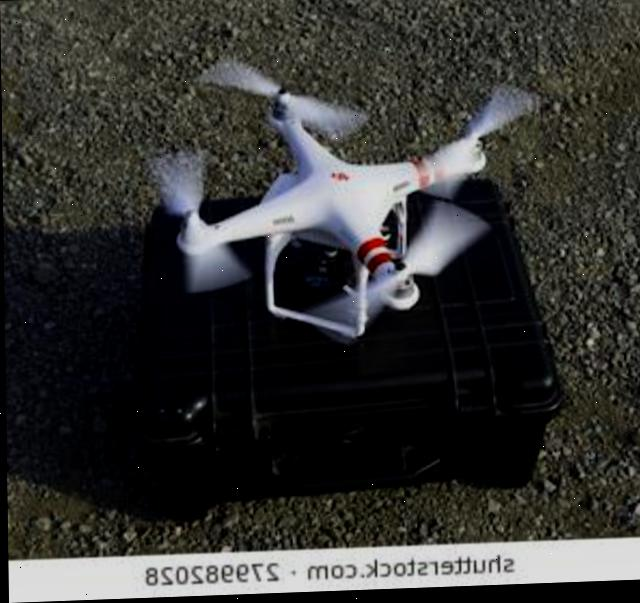drone: (44, 15, 593, 389)
